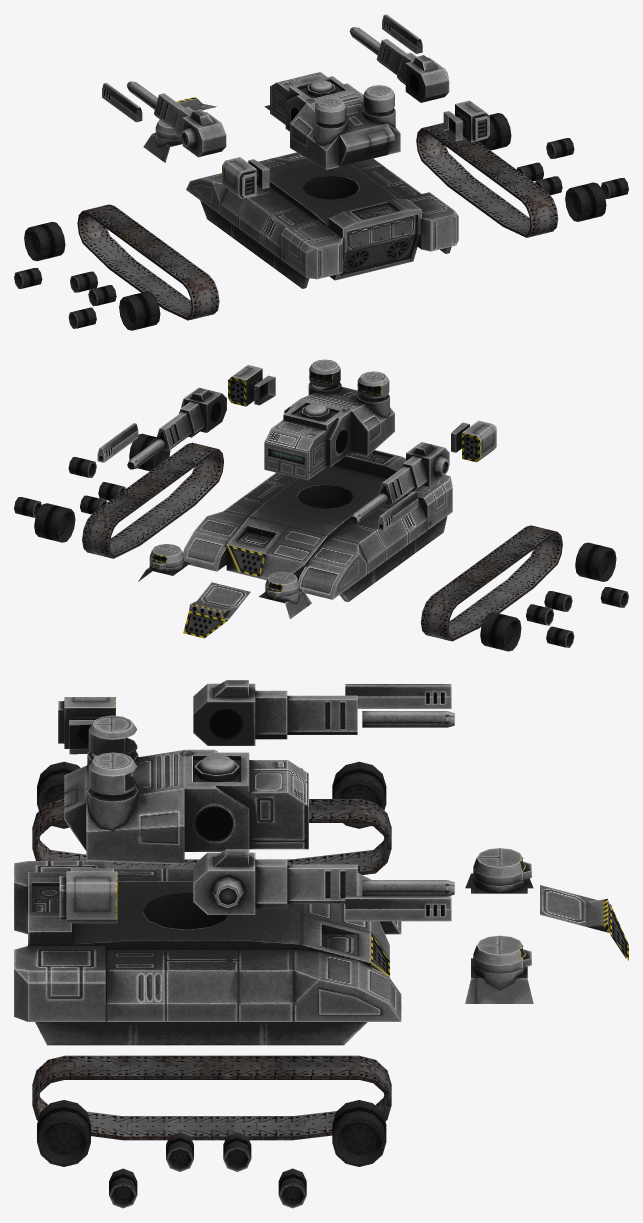
The model's file is Behemoth_ex.FBX.
3 renders of one model, top to bottom at view 1: azimuth 30°, elevation 25°; view 2: azimuth 150°, elevation 25°; view 3: azimuth 270°, elevation 25°, orthographic. The views are drawn at different scales.
Visible parts, largest first — view 1: body, turret_1, trackr, trackl, mantlet_1, mantlet_2, wheel6, wheel7, wheel12, launcher_7, launcher_6, mainvar_bits (+13 smaller); view 2: body, turret_1, trackl, trackr, mainvar_bits, mantlet_1, mantlet_2, sideturret_covers, fronthull_cover, wheel7, wheel1, wheel12 (+17 smaller); view 3: body, turret_1, trackl, mantlet_2, mantlet_1, trackr, mainvar_bits, barrel_1 (×2), barrel_2 (×2), sideturret_covers, launcher_6, wheel1 (+14 smaller).
Boxes of the visible parts, x1,y1,x2,y2 form: body: (186,152,458,288); turret_1: (270,72,400,169); trackr: (77,204,219,320); trackl: (416,123,558,237); mantlet_1: (376,39,449,102); mantlet_2: (154,93,226,157); wheel6: (565,182,606,221); wheel7: (24,221,65,261); wheel12: (119,291,160,330); launcher_7: (222,157,259,198); launcher_6: (455,100,489,142); mainvar_bits: (143,97,269,162); body: (183,450,452,601); turret_1: (264,382,394,480); trackl: (82,442,223,558); trackr: (420,525,562,641); mainvar_bits: (138,561,311,638); mantlet_1: (155,387,226,451); mantlet_2: (378,442,449,505); sideturret_covers: (225,496,388,562); fronthull_cover: (266,526,327,563); wheel7: (480,612,521,651); wheel1: (34,503,75,542); wheel12: (575,542,616,581); body: (14,861,401,1045); turret_1: (64,749,308,864); trackl: (32,1055,391,1140); mantlet_2: (193,680,357,745); mantlet_1: (193,849,357,914); trackr: (32,799,391,874); mainvar_bits: (465,873,628,1003); barrel_1 (×2): (345,880,454,921); barrel_2 (×2): (345,684,454,727); sideturret_covers: (226,952,294,1003); launcher_6: (59,871,117,923); wheel1: (332,1100,386,1166).
Size of the model in its own units: 148 by 43.41 by 91.94.
Materials: 1 (1 with a texture image).
